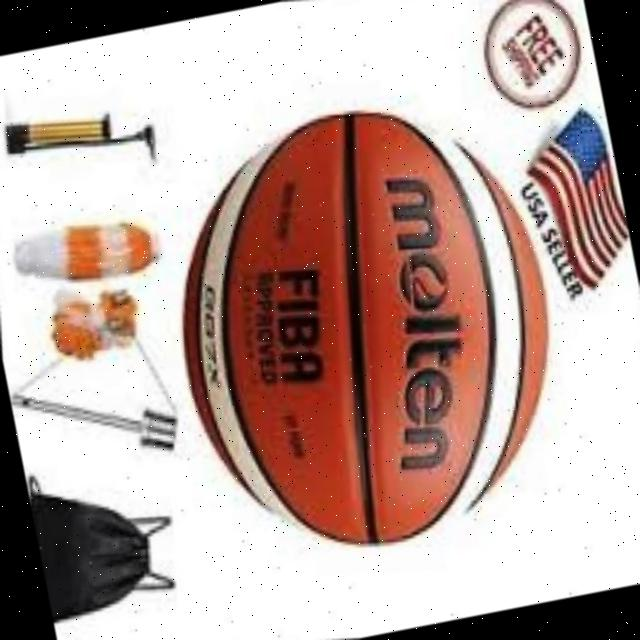ball: (113, 52, 615, 605)
